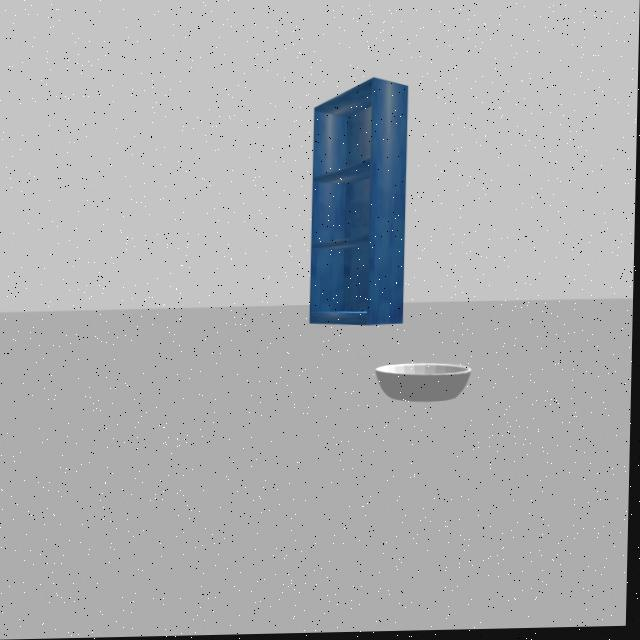bowl: (374, 355, 480, 421)
shelf: (301, 75, 428, 347)
